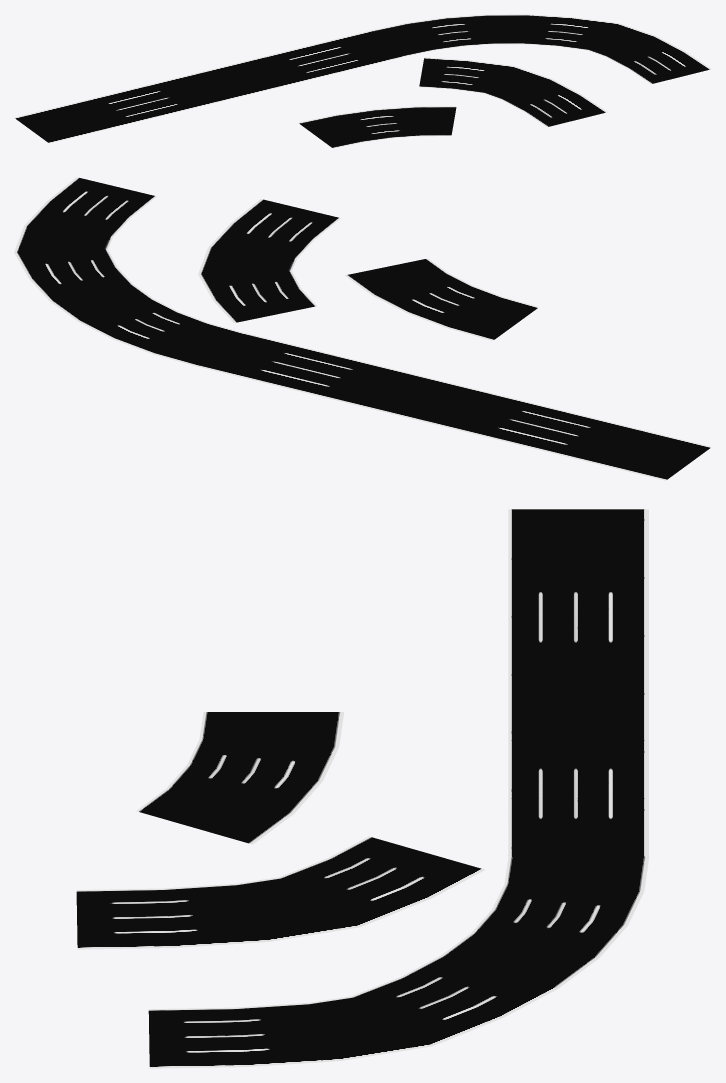
The model's file is road (1).FBX.
3 views of the same model, one above another, from view 1: azimuth 30°, elevation 25°; view 2: azimuth 150°, elevation 25°; view 3: azimuth 270°, elevation 25° (orthographic). The views are drawn at different scales.
Visible parts, largest first — view 1: Object001, Object003, Object005, Object007; view 2: Object001, Object003, Object005, Object007; view 3: Object001, Object003, Object005, Object007.
Part boxes in pixels (x1,y1,x2,y2): Object001: [14, 31, 404, 143]; Object003: [370, 14, 711, 84]; Object005: [419, 57, 607, 126]; Object007: [298, 106, 456, 148]; Object001: [198, 333, 711, 480]; Object003: [14, 177, 243, 366]; Object005: [198, 199, 340, 322]; Object007: [344, 258, 538, 340]; Object001: [508, 509, 648, 856]; Object003: [148, 856, 649, 1068]; Object005: [76, 836, 485, 949]; Object007: [136, 712, 344, 844].
Size of the model in its own units: 881 by 3.83e-09 by 381.
1 material, 1 textured.
